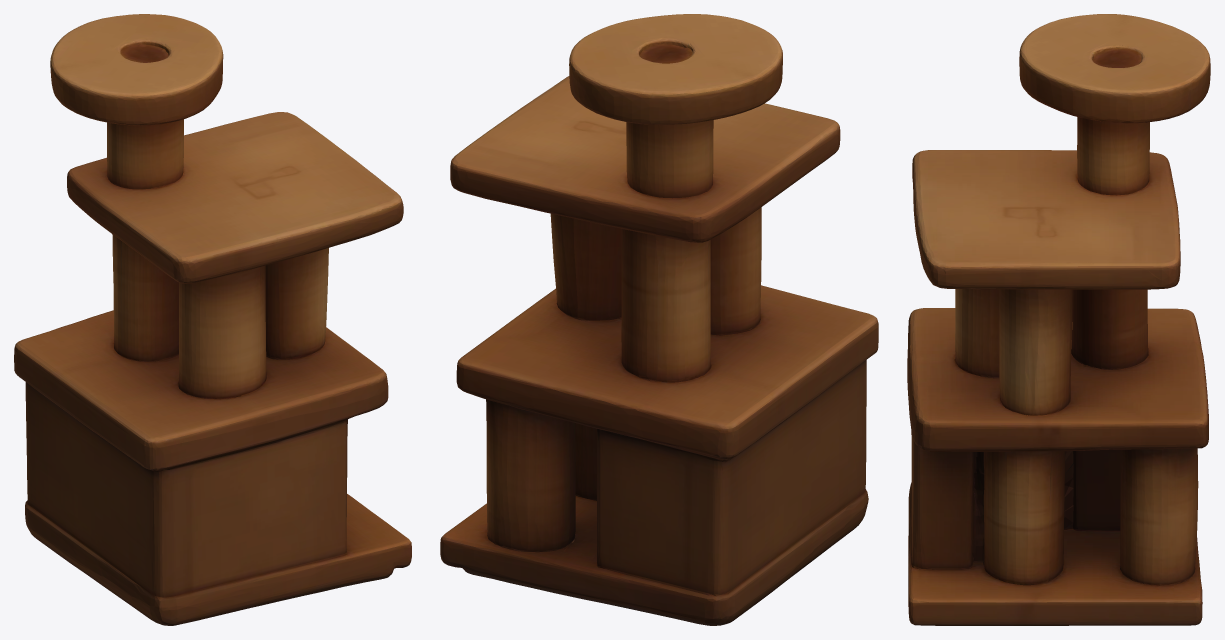
The model's file is item_cat_tree.glb.
3 renders of one model, left to right at view 1: azimuth 30°, elevation 25°; view 2: azimuth 150°, elevation 25°; view 3: azimuth 270°, elevation 25°, orthographic. The views are drawn at different scales.
Parts seen in each view (by area): view 1: geometry_0; view 2: geometry_0; view 3: geometry_0.
Boxes of the visible parts, bbox=[...] form: geometry_0: bbox=[14, 14, 411, 625]; geometry_0: bbox=[440, 14, 878, 625]; geometry_0: bbox=[907, 14, 1210, 625].
Bounding box in the file's own units: 0.5812 × 0.9998 × 0.5537.
Materials: 1 (1 with a texture image).
